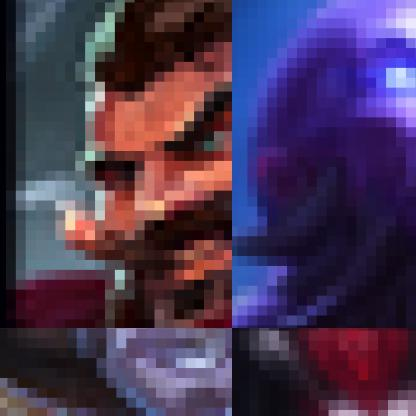Elise: (232, 328, 415, 415)
Graves: (0, 0, 231, 327)
Ryze: (232, 0, 415, 327)
Sylas: (0, 328, 231, 415)
